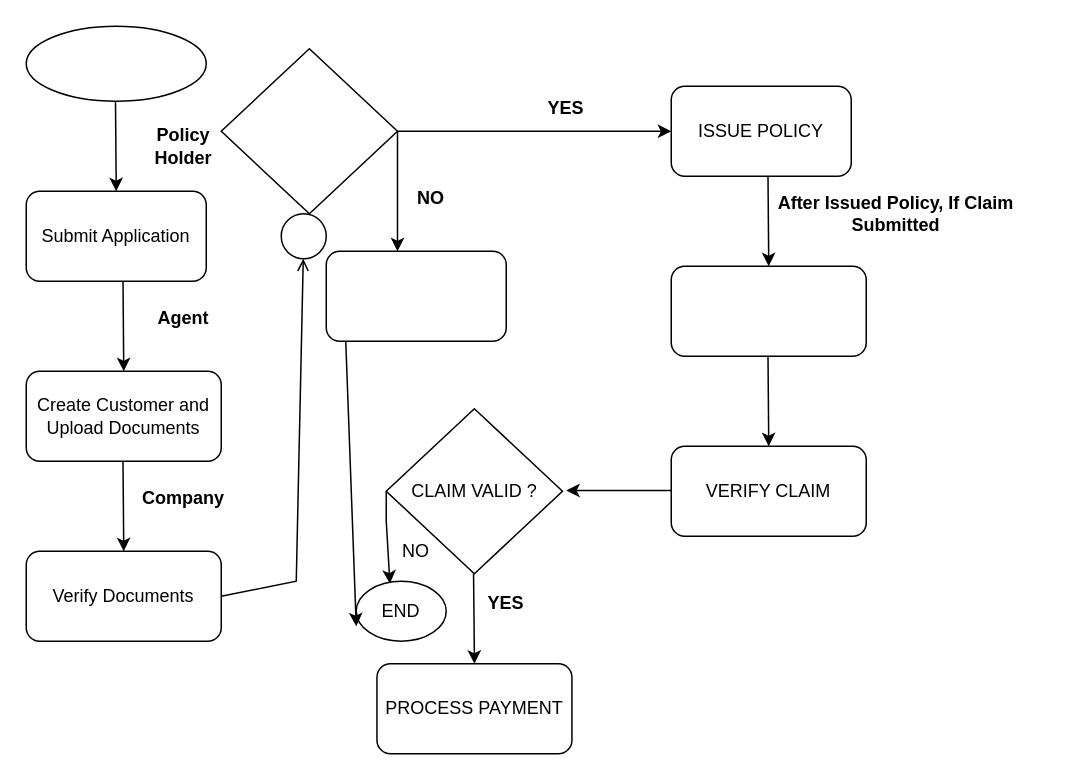
Image size: 1073x780. Some labels were removed from this diagram. Each missing label, with the centre of its shape:
All Members Valid ?: the point at 309,130
REJECT APPLICATION: the point at 415,295
START: the point at 115,63
SUBMIT CLAIM: the point at 768,310
